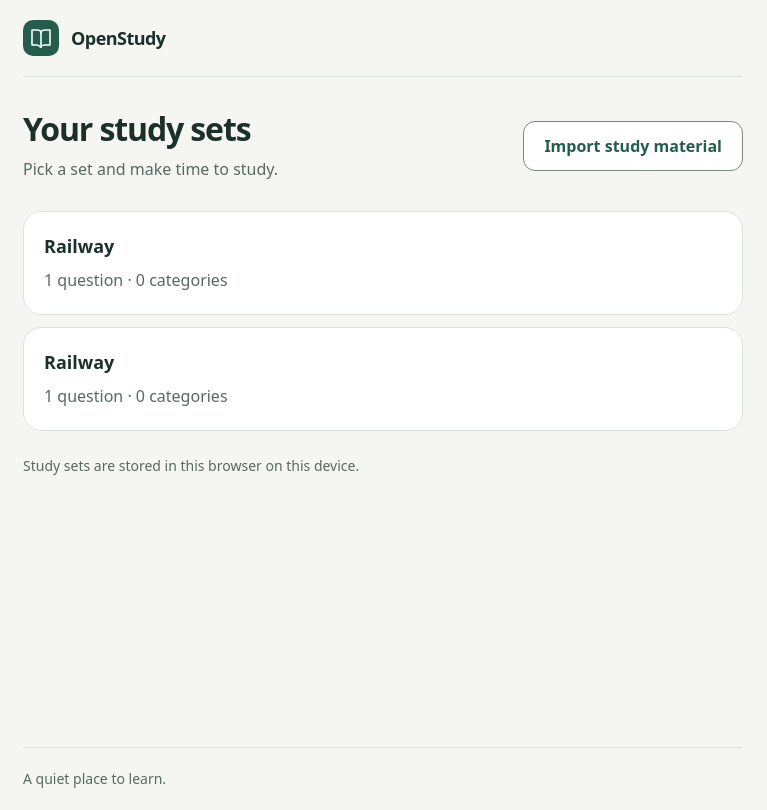
Test: saved Library › lists multiple summaries, opens an opaque ID, and shows sources
Click the 1st link "Railway 1 question · 0 categories" at point(79, 246), box [23,211,743,315]
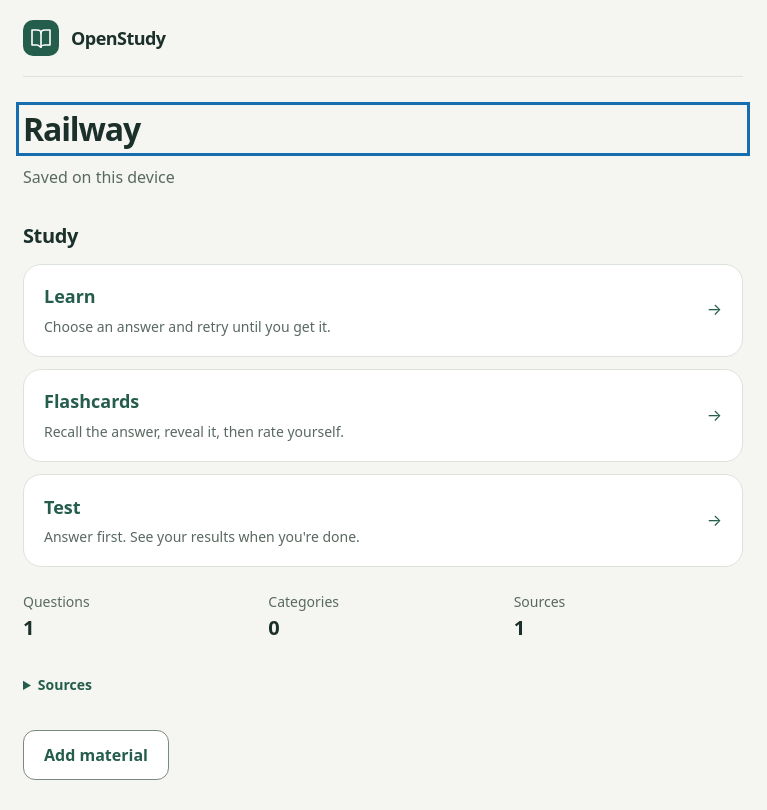
Click the heading "Sources" at point(65, 684), box [38,674,92,694]
(page scrolled)
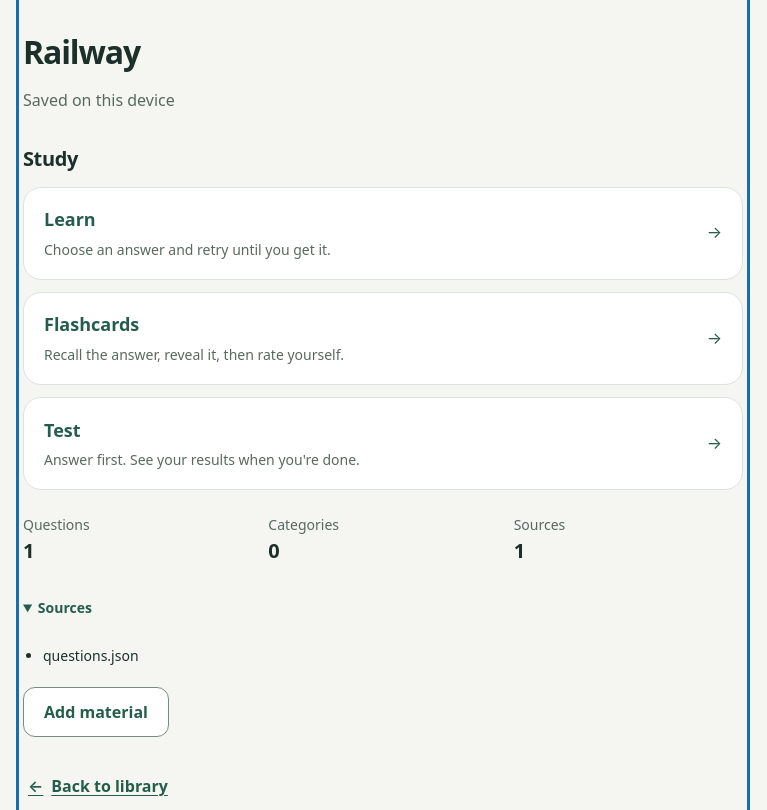
Expected: the text "Saved on this device" is shown, [23,89,175,111]
Expected: the list item "questions.json" is shown, [43,646,139,664]
